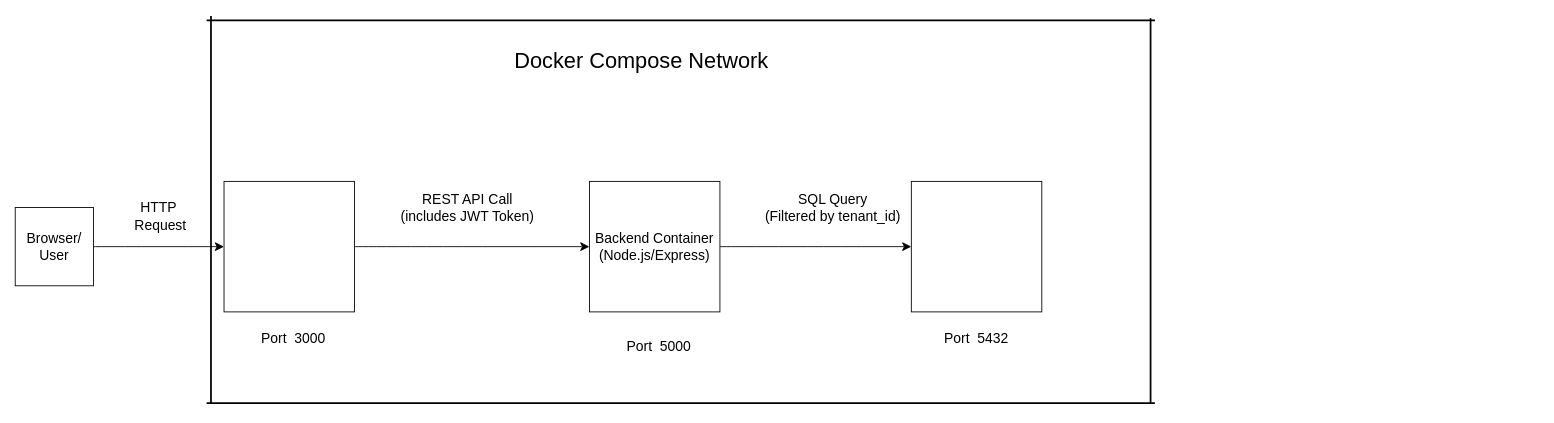
The diagram is 1554 pixels wide and 423 high, and some of its shapes have lost their labels. The shapes that lost their labels are listed below. From the top down, each one's box as (x1, y1, x2, y2) in pixels, then its label:
(223, 181, 355, 312): Frontend Container (React/Nginx)
(910, 181, 1042, 312): Database Container (Postgre SQL)
